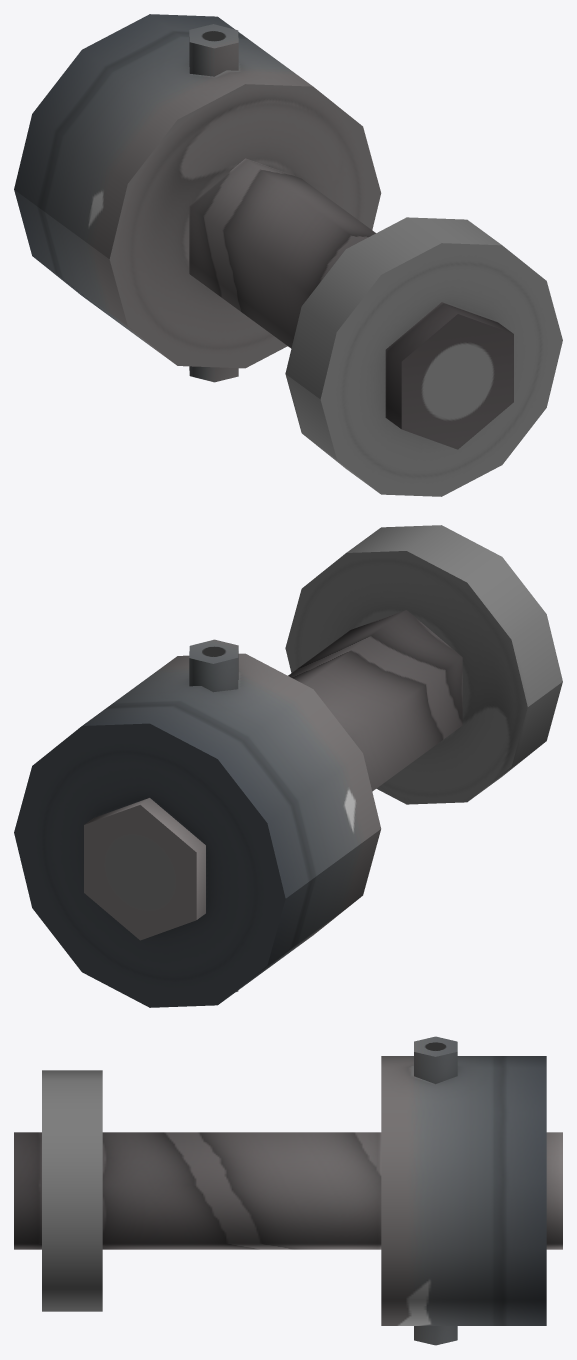
File: obj_interactive_suspensionsport_01_off.fbx
3 views of the same model, one above another, from view 1: azimuth 30°, elevation 25°; view 2: azimuth 150°, elevation 25°; view 3: azimuth 270°, elevation 25° (orthographic). The views are drawn at different scales.
Parts seen in each view (by area): view 1: obj_interactive_suspensionsport_01_off; view 2: obj_interactive_suspensionsport_01_off; view 3: obj_interactive_suspensionsport_01_off.
Boxes of the visible parts, x1,y1,x2,y2 form: obj_interactive_suspensionsport_01_off: (14, 14, 562, 496); obj_interactive_suspensionsport_01_off: (14, 525, 562, 1007); obj_interactive_suspensionsport_01_off: (14, 1036, 562, 1345).
Bounding box in the file's own units: 1.09 × 1.29 × 2.22.
